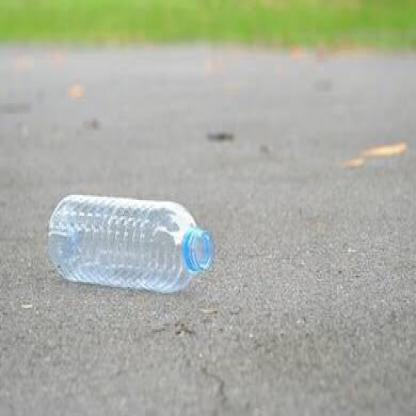bottle: (48, 164, 223, 308)
